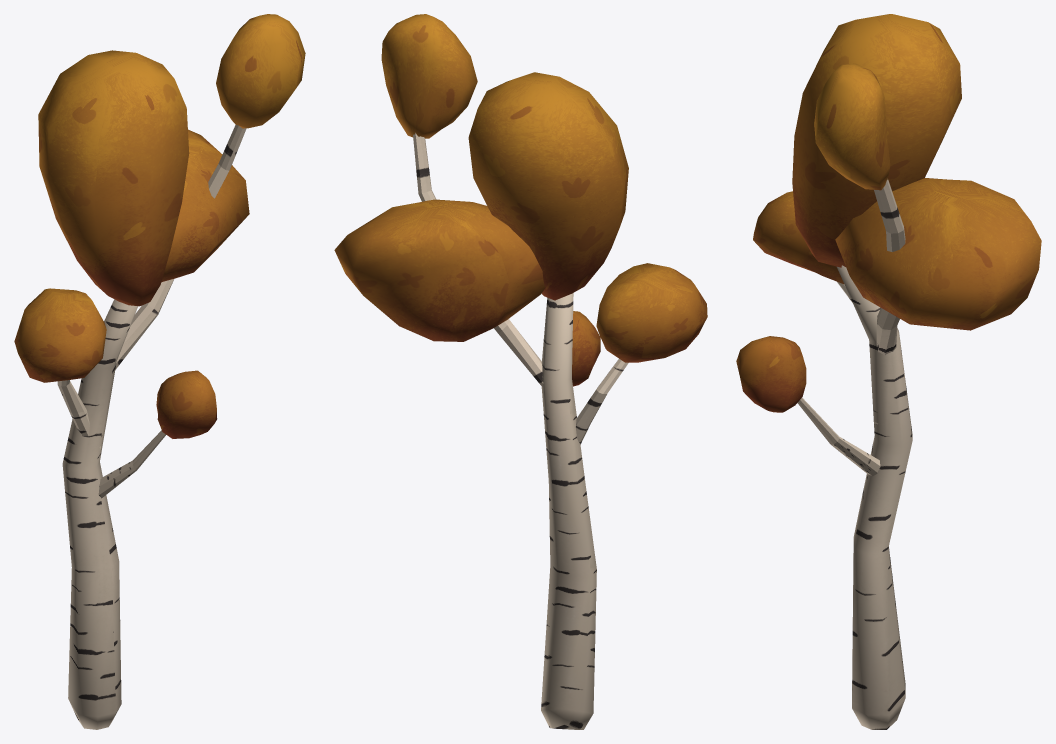
The model's file is Berk1.fbx.
3 views of the same model, side by side, from view 1: azimuth 30°, elevation 25°; view 2: azimuth 150°, elevation 25°; view 3: azimuth 270°, elevation 25° (orthographic). The views are drawn at different scales.
Parts seen in each view (by area): view 1: Cube.044; view 2: Cube.044; view 3: Cube.044.
Part boxes in pixels (bbox=[...]): Cube.044: bbox=[14, 14, 305, 729]; Cube.044: bbox=[334, 14, 707, 729]; Cube.044: bbox=[736, 14, 1041, 729].
Bounding box in the file's own units: 1950 × 4201 × 1573.
2 materials, 2 textured.
